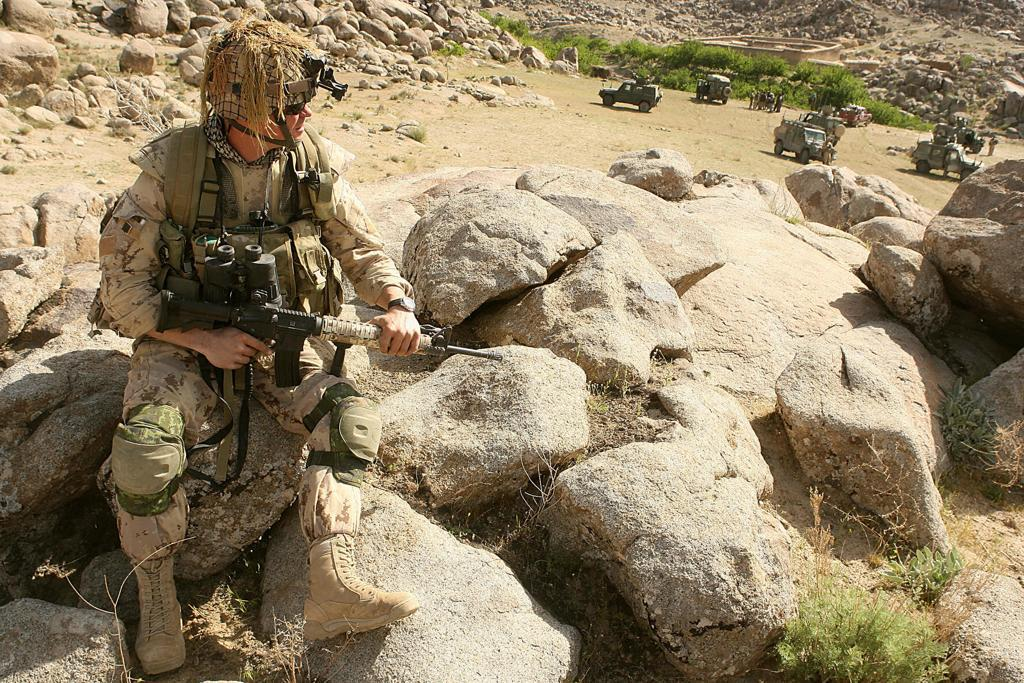face: (266, 86, 313, 142)
